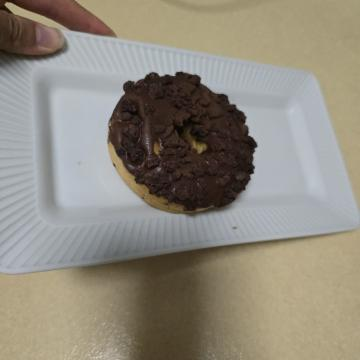doughnut: (64, 95, 225, 262)
